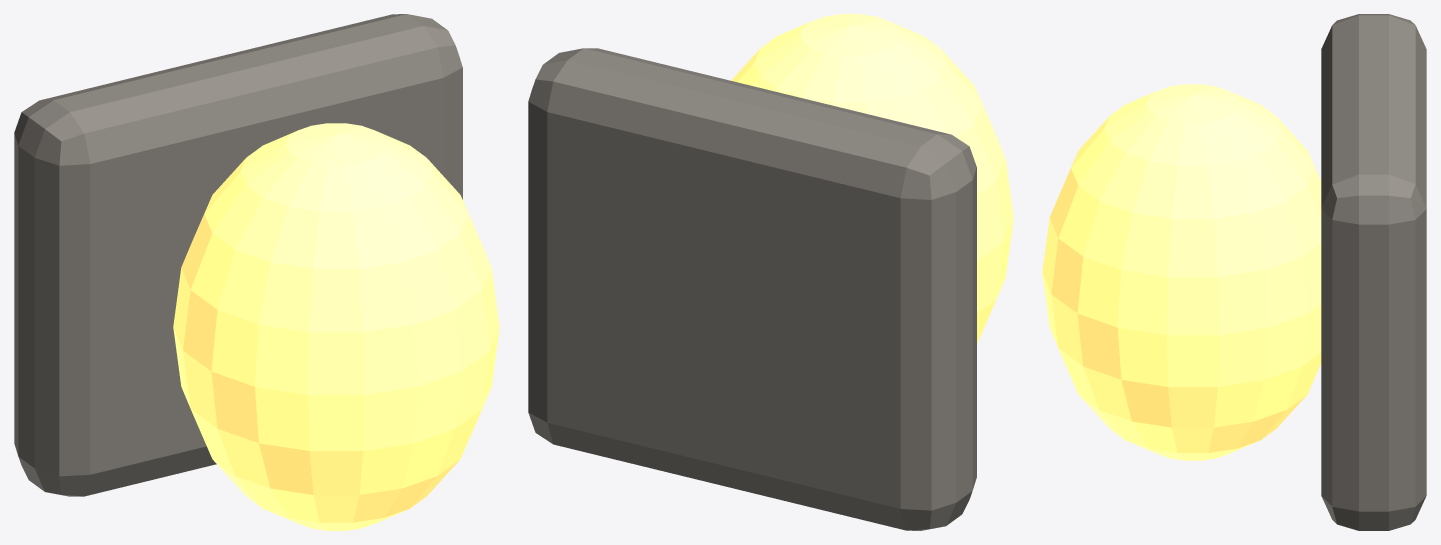
File: basement-stair-sconce.glb
3 renders of one model, left to right at view 1: azimuth 30°, elevation 25°; view 2: azimuth 150°, elevation 25°; view 3: azimuth 270°, elevation 25°, orthographic. The views are drawn at different scales.
Parts seen in each view (by area): view 1: SM_Light_SconceBulb, SM_Light_SconceBackplate; view 2: SM_Light_SconceBackplate, SM_Light_SconceBulb; view 3: SM_Light_SconceBulb, SM_Light_SconceBackplate.
Boxes of the visible parts, x1,y1,x2,y2 form: SM_Light_SconceBulb: (173, 123, 499, 530); SM_Light_SconceBackplate: (14, 14, 462, 496); SM_Light_SconceBackplate: (528, 48, 976, 530); SM_Light_SconceBulb: (731, 14, 1013, 343); SM_Light_SconceBulb: (1042, 84, 1321, 460); SM_Light_SconceBackplate: (1321, 14, 1426, 530).
Bounding box in the file's own units: 0.3 × 0.26 × 0.255.
